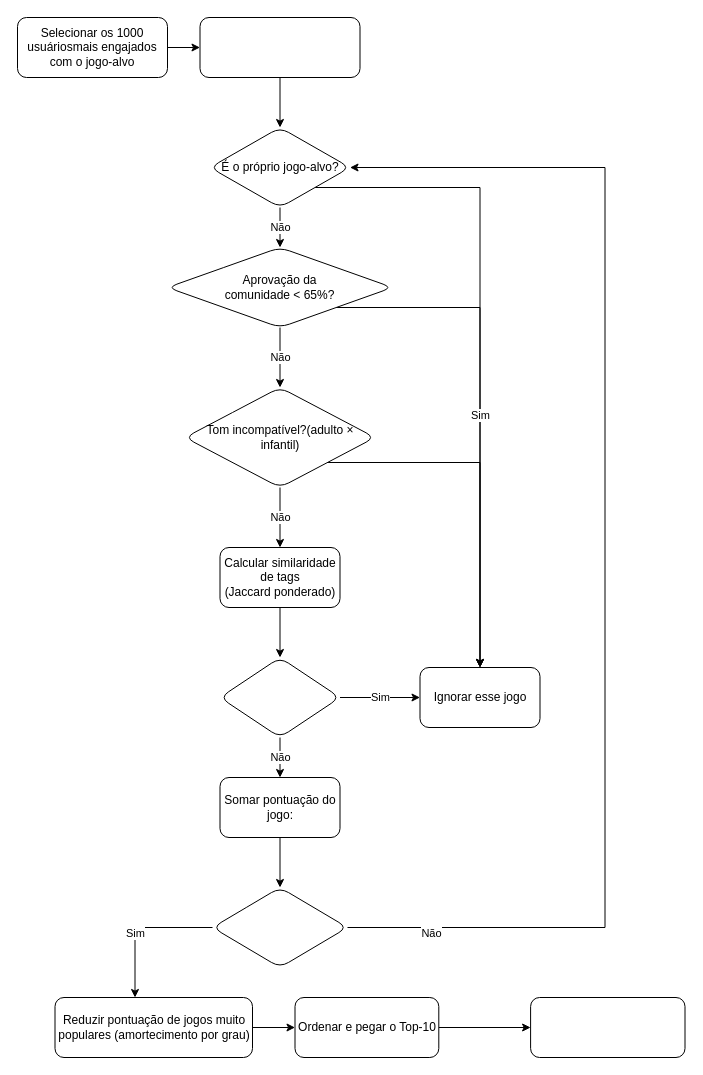
Image size: 703x1075. Some labels were removed from this diagram. The box of each missing label's shape, as (x1, y1, x2, y2) in pixels:
Exibir / gravar o ranking e voltar ao menu: (530, 996, 685, 1058)
Percorrer os outros jogosde cada um desses usuários: (199, 16, 360, 78)
Similaridade < 0,20?: (219, 656, 340, 738)
Terminou de percorrer?: (212, 886, 348, 968)
